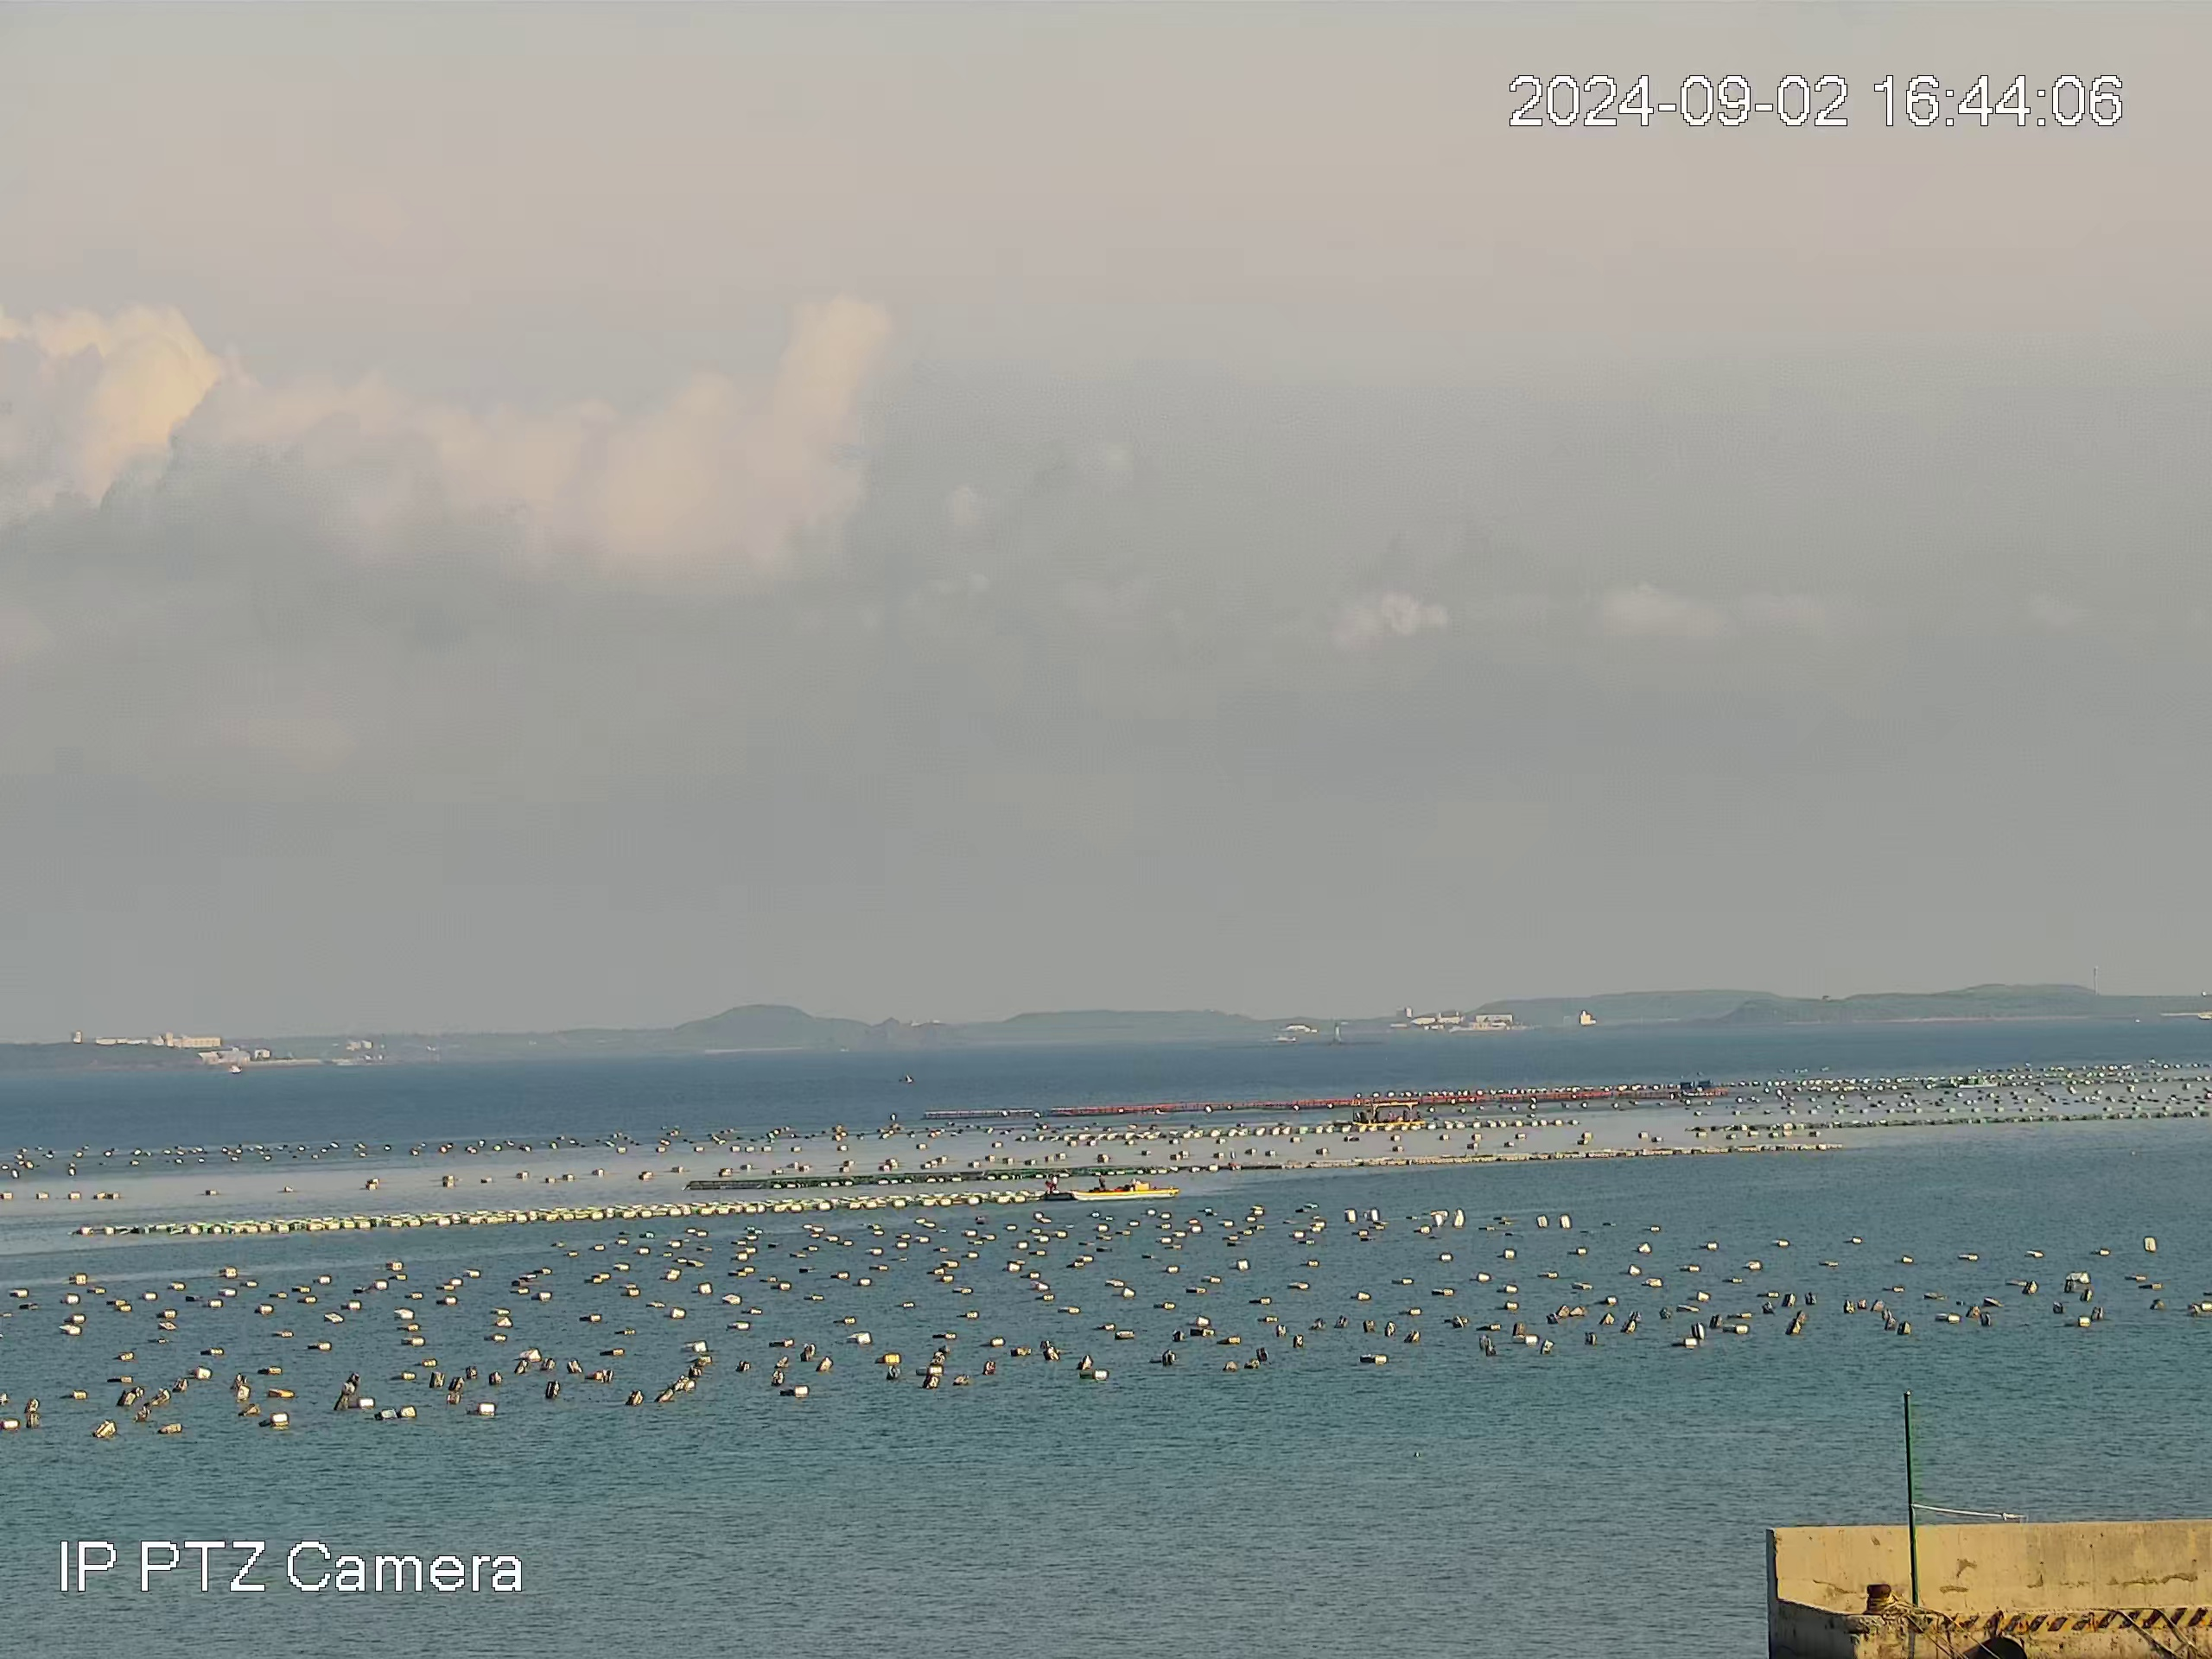boat: (1038, 1169, 1181, 1202), (1348, 1100, 1428, 1129)
